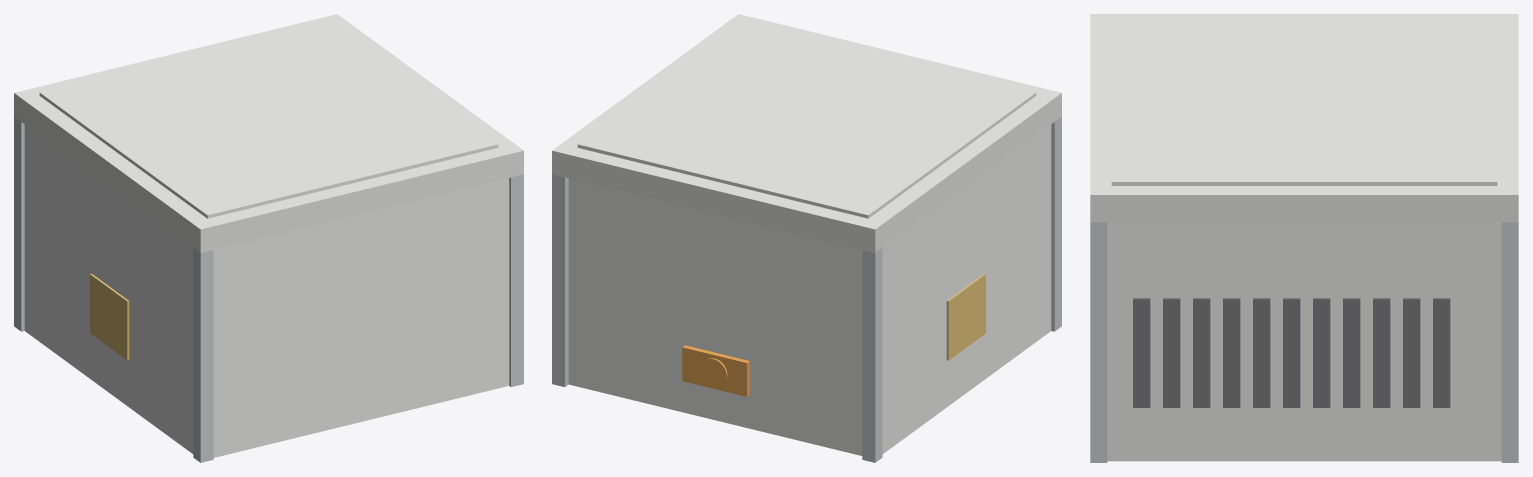
Rendered from rover26_battery_bay_m.glb.
3 views of the same model, side by side, from view 1: azimuth 30°, elevation 25°; view 2: azimuth 150°, elevation 25°; view 3: azimuth 270°, elevation 25° (orthographic). The views are drawn at different scales.
Parts seen in each view (by area): view 1: body, lid, frame, gold_label; view 2: body, lid, frame, port_connector, gold_label; view 3: lid, body, vents, frame.
Boxes of the visible parts, x1,y1,x2,y2 form: body: [24, 125, 509, 457]; lid: [14, 14, 523, 252]; frame: [14, 117, 523, 462]; gold_label: [90, 273, 129, 360]; body: [568, 125, 1051, 455]; lid: [552, 14, 1061, 252]; frame: [552, 117, 1061, 462]; port_connector: [682, 345, 749, 396]; gold_label: [946, 273, 985, 360]; lid: [1090, 14, 1518, 222]; body: [1107, 222, 1501, 461]; vents: [1133, 298, 1450, 407]; frame: [1090, 222, 1518, 462].
Size of the model in its own units: 1 by 0.7 by 1.
